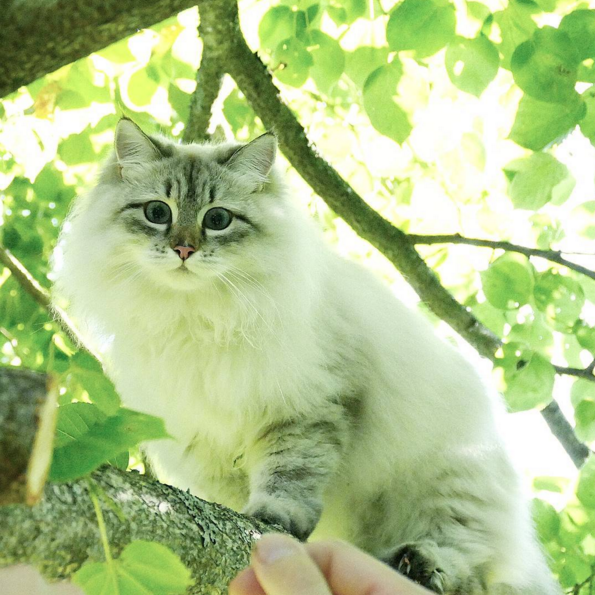cat: (48, 104, 562, 594)
